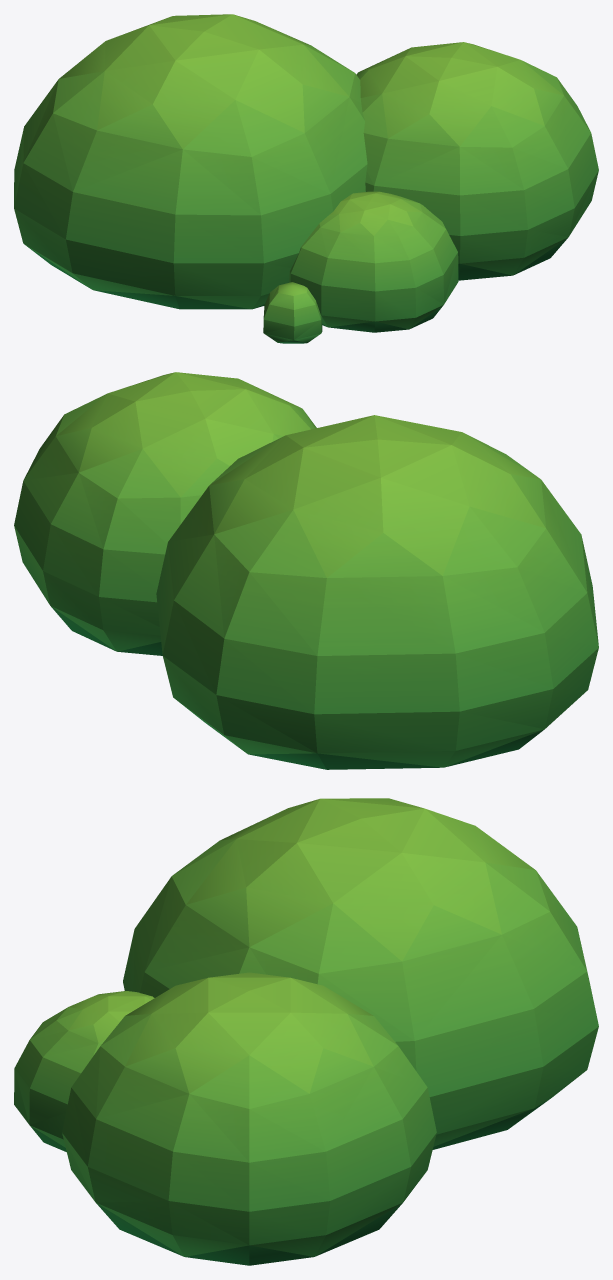
File: kf_bush_1_f.fbx
3 renders of one model, top to bottom at view 1: azimuth 30°, elevation 25°; view 2: azimuth 150°, elevation 25°; view 3: azimuth 270°, elevation 25°, orthographic. The views are drawn at different scales.
Parts seen in each view (by area): view 1: kf_bush_1_f_LOD0; view 2: kf_bush_1_f_LOD0; view 3: kf_bush_1_f_LOD0.
Part boxes in pixels (<box>): kf_bush_1_f_LOD0: <box>14,14,598,343</box>; kf_bush_1_f_LOD0: <box>14,372,598,769</box>; kf_bush_1_f_LOD0: <box>14,798,598,1265</box>.
Size of what is drawn, in the model's own units: 3.65 by 1.59 by 3.01.
Materials: 1 (1 with a texture image).
